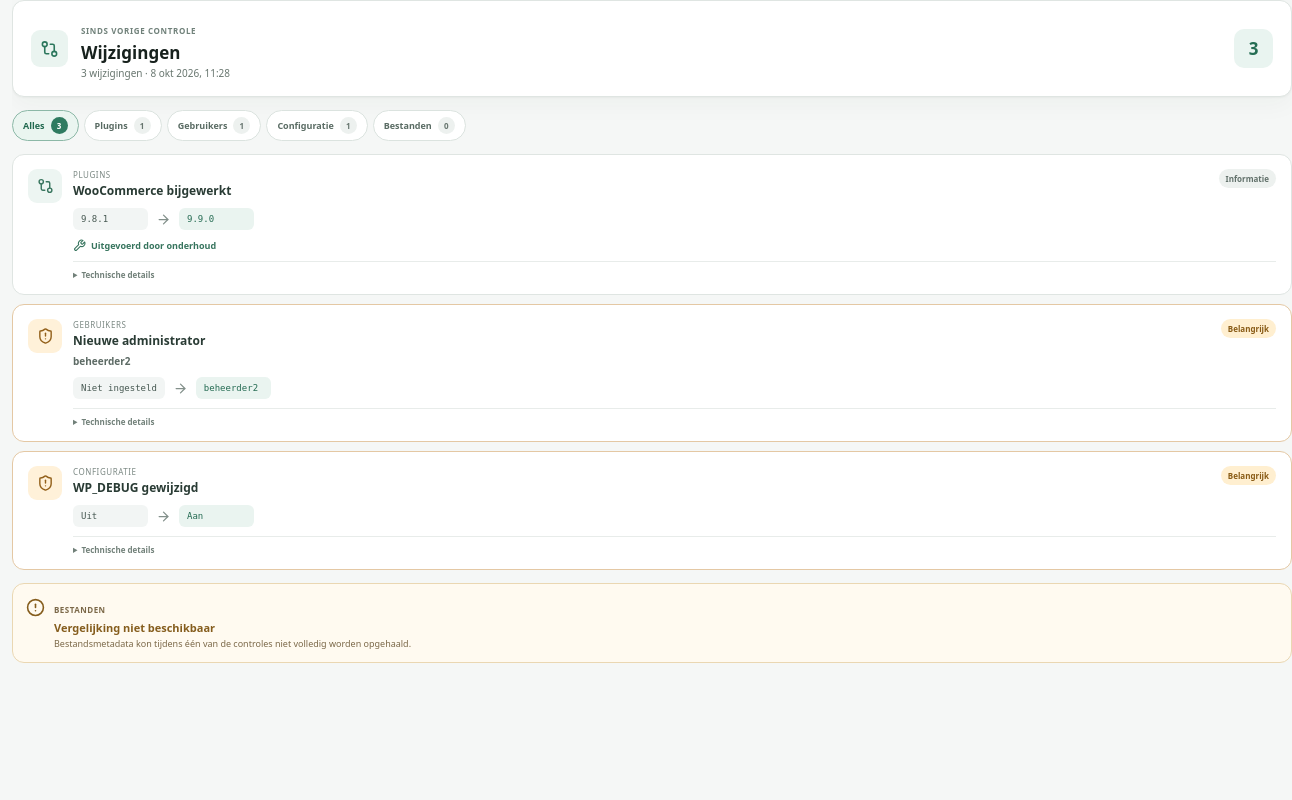
Test case: SiteChanges › shows friendly values, maintenance context, filters and partial sections
This screenshot has width=1292, height=800.
Click the button "Gebruikers 1". click: click(214, 126)
box: [167,110,261,141]
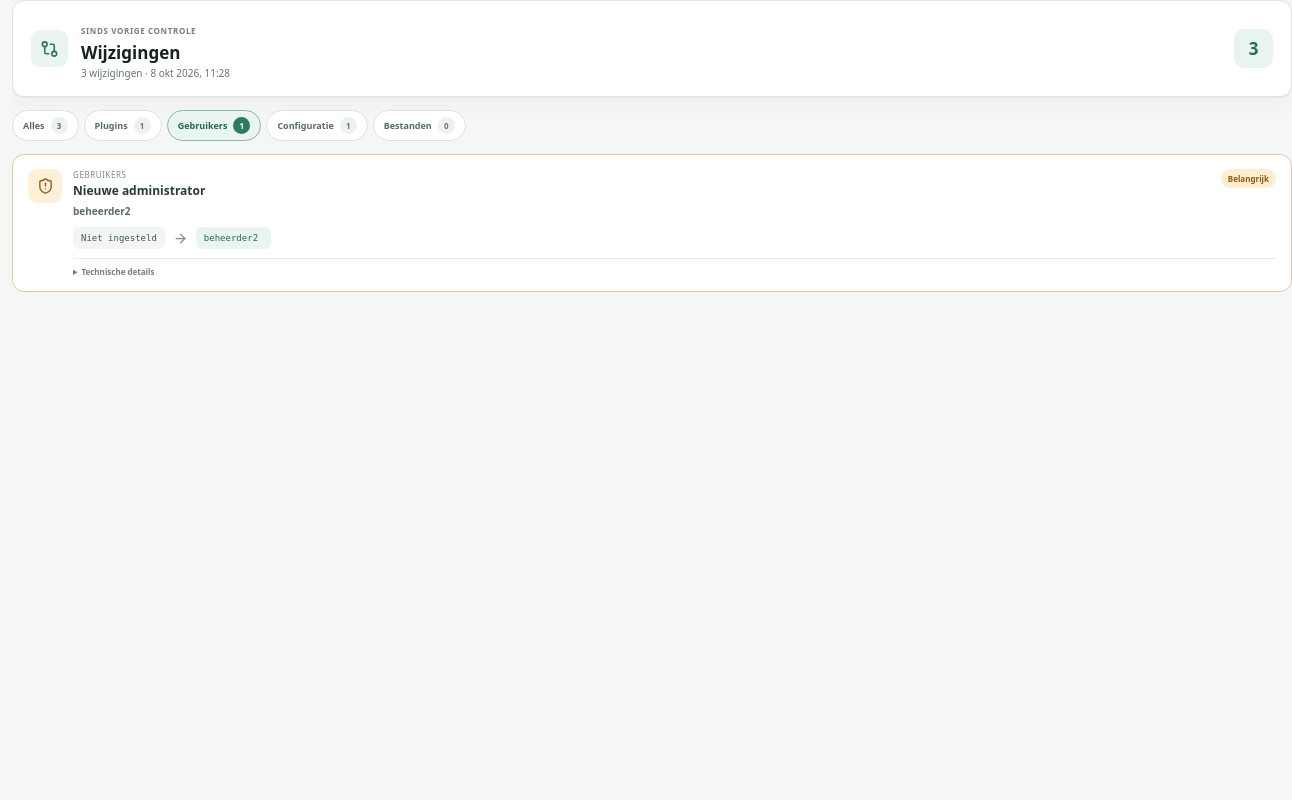
Expected: the text "Nieuwe administrator" is shown, [73,182,205,199]
Expected: the number of elements with class "change-card" is 1, [12,154,1291,292]
Expected: the text "WooCommerce bijgewerkt" is gone
